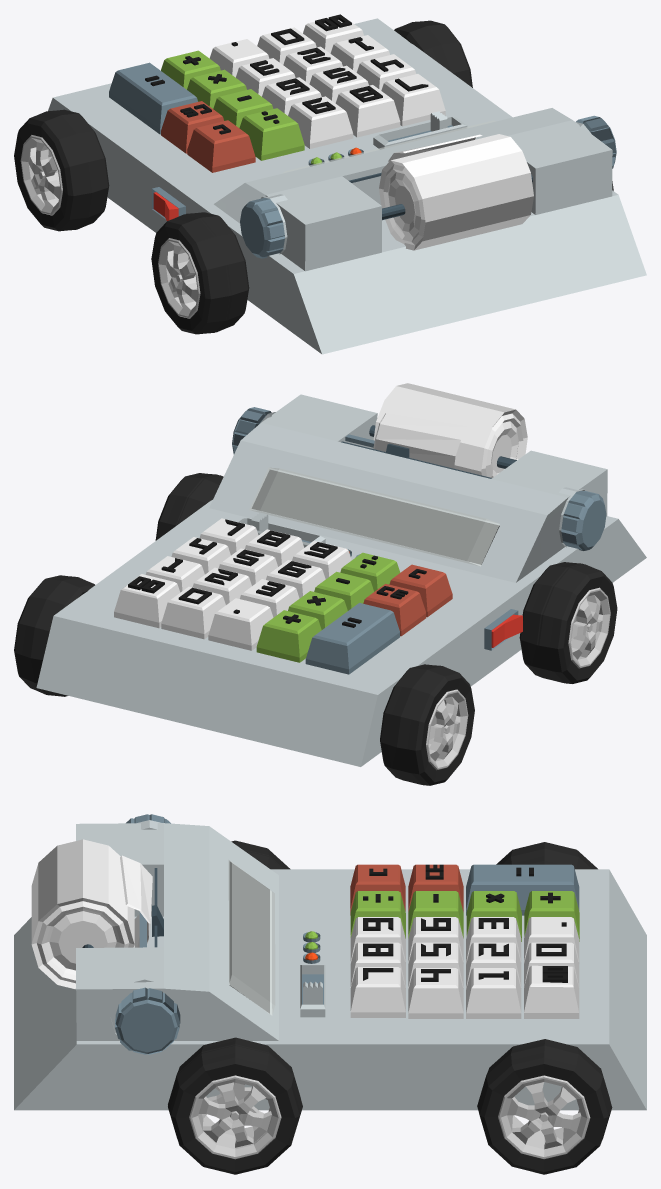
The model's file is modelCar1.glb.
3 views of the same model, one above another, from view 1: azimuth 30°, elevation 25°; view 2: azimuth 150°, elevation 25°; view 3: azimuth 270°, elevation 25° (orthographic). The views are drawn at different scales.
Visible parts, largest first — view 1: group1466548647, group48887536, group1325531539, Tire.003, Tire.005, group23065195, Tire.004, group389477461.003, group1297306164, group502161026, group1294525603, Tire.002 (+19 smaller); view 2: group1466548647, group48887536, group127134564, Tire.003, Tire.005, group1325531539, group23065195, Tire.002, group1065846868, Tire.004, group2033548222, group454468518 (+21 smaller); view 3: group1466548647, group48887536, Tire.002, group1325531539, Tire.001, group127134564, Tire, group74567260, group23065195, group2033548222, group2058303266, group1296408862 (+18 smaller).
Part boxes in pixels (box(x1,y1,x2,y2)): group1466548647: box(48, 18, 646, 354); group48887536: box(214, 108, 612, 271); group1325531539: box(379, 134, 533, 250); Tire.003: box(14, 109, 109, 231); Tire.005: box(151, 214, 230, 334); group23065195: box(109, 62, 197, 134); Tire.004: box(170, 212, 249, 332); group389477461.003: box(187, 120, 255, 172); group1297306164: box(288, 96, 353, 148); group502161026: box(335, 85, 400, 137); group1294525603: box(239, 108, 304, 160); Tire.002: box(394, 20, 472, 87); group1466548647: box(36, 500, 646, 766); group48887536: box(209, 394, 607, 582); group127134564: box(249, 467, 499, 566); Tire.003: box(380, 664, 474, 785); Tire.005: box(538, 564, 617, 683); group1325531539: box(373, 383, 527, 477); group23065195: box(305, 603, 399, 674); Tire.002: box(14, 575, 94, 696); group1065846868: box(373, 413, 468, 468); Tire.004: box(519, 562, 600, 680); group2033548222: box(114, 574, 180, 628); group454468518: box(208, 598, 273, 650); group1466548647: box(14, 869, 646, 1110); group48887536: box(76, 823, 278, 1040); Tire.002: box(477, 1039, 612, 1174); group1325531539: box(31, 839, 134, 989); Tire.001: box(168, 1045, 302, 1174); group127134564: box(228, 860, 275, 1015); Tire: box(168, 1037, 302, 1147); group74567260: box(115, 987, 180, 1054); group23065195: box(466, 864, 579, 915); group2033548222: box(524, 965, 579, 1018); group2058303266: box(350, 967, 405, 1017); group1296408862: box(466, 968, 521, 1018).
Bounding box in the file's own units: 2.09 × 0.8905 × 2.52.
Materials: 32 (6 with a texture image).
